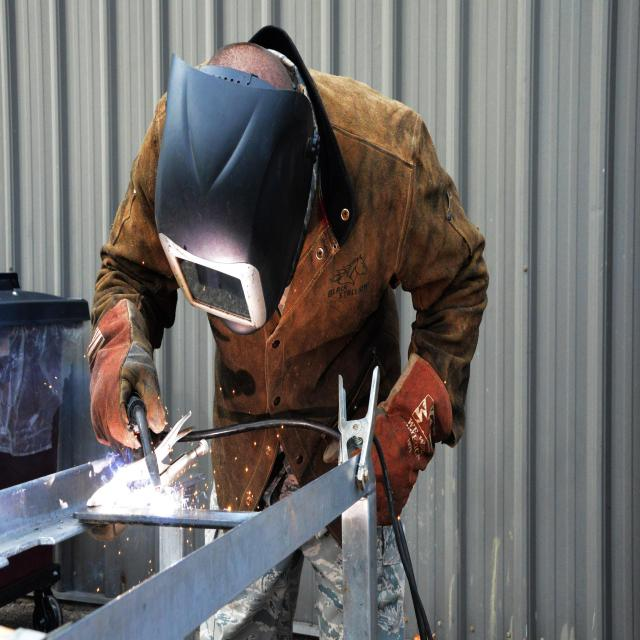sin_chaleco: (188, 77, 448, 462)
